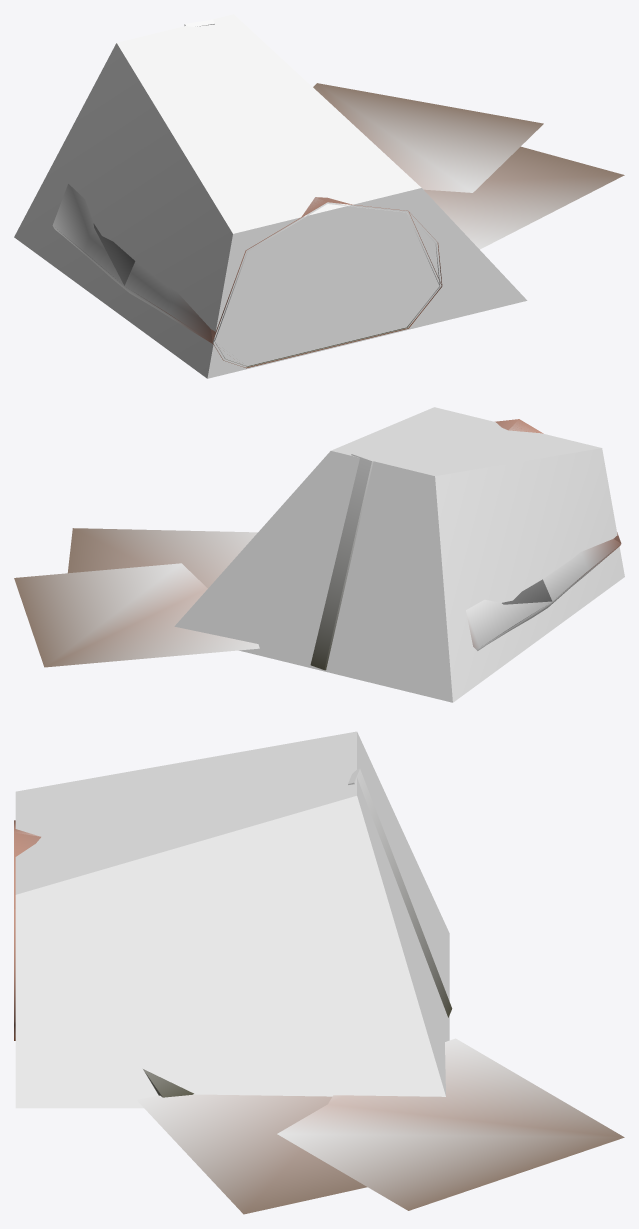
Rendered from eca_fv_junk_a.DAE.
3 views of the same model, one above another, from view 1: azimuth 30°, elevation 25°; view 2: azimuth 150°, elevation 25°; view 3: azimuth 270°, elevation 25° (orthographic). The views are drawn at different scales.
Parts seen in each view (by area): view 1: Colmesh-1, eca_fv_junk_a100, eca_fv_junk_a20; view 2: Colmesh-1, eca_fv_junk_a100, eca_fv_junk_a20; view 3: Colmesh-1, eca_fv_junk_a100.
Boxes of the visible parts, left/top/right/bottom form: Colmesh-1: left=14, top=14, right=527, bottom=378; eca_fv_junk_a100: left=52, top=19, right=624, bottom=368; eca_fv_junk_a20: left=57, top=197, right=442, bottom=366; Colmesh-1: left=174, top=407, right=624, bottom=702; eca_fv_junk_a100: left=14, top=419, right=620, bottom=670; eca_fv_junk_a20: left=489, top=419, right=621, bottom=641; Colmesh-1: left=15, top=731, right=449, bottom=1108; eca_fv_junk_a100: left=14, top=768, right=624, bottom=1214.
Size of the model in its own units: 1.96 by 1.78 by 0.759.
